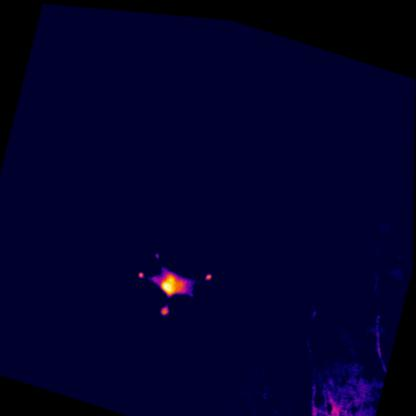drone: (131, 243, 213, 323)
